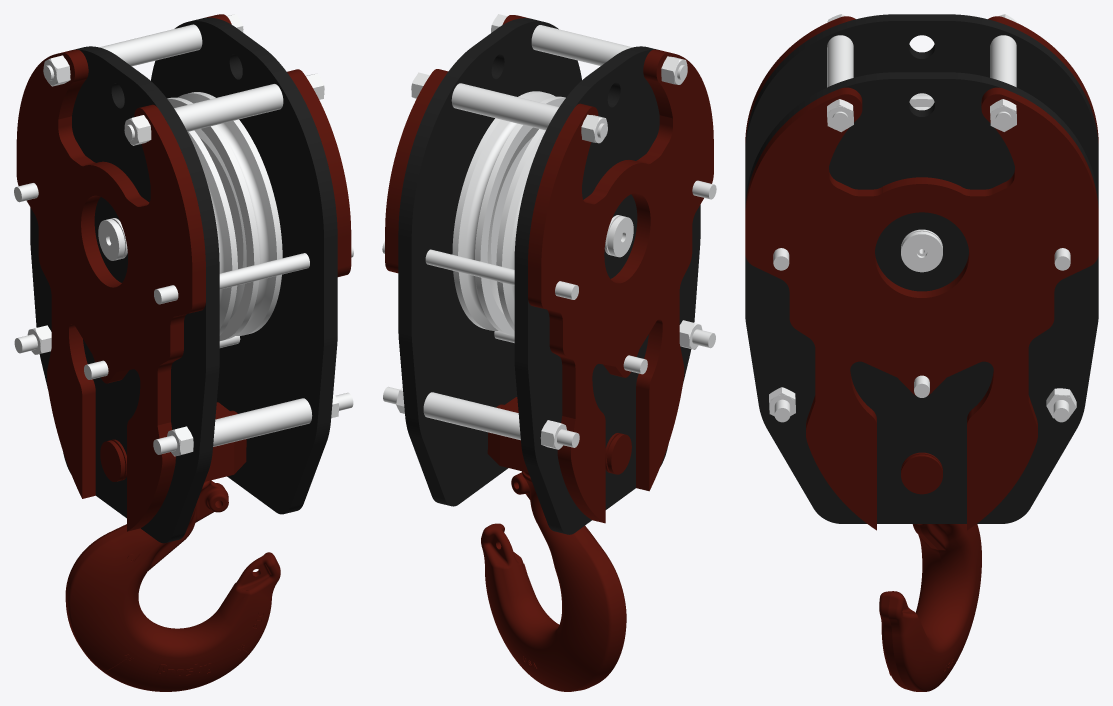
The model's file is GNC-SPT-001.glb.
3 renders of one model, left to right at view 1: azimuth 30°, elevation 25°; view 2: azimuth 150°, elevation 25°; view 3: azimuth 270°, elevation 25°, orthographic. The views are drawn at different scales.
Visible parts, largest first — view 1: PLACA DE CARGA GANCHO 2 POLEAS (×2), CONTRAPESO DE BLOQUE DOBLE OLEA (×2), CROSBY_319AN_N_1028801 GANCHO 22, POLEA DE BLOQUE 2 POLEAS (×2), BARRAB HUECA SEPARADORA BLOQUE 2 POLEAS (×3), SIMULACION ESPARRAGO 2 POLEAS (×3), BLOQUE DE CARGA 2 POLEAS, heavy hex nut_ai (×3), FLECHA DE 2 POLEAS; view 2: PLACA DE CARGA GANCHO 2 POLEAS (×2), CONTRAPESO DE BLOQUE DOBLE OLEA (×2), CROSBY_319AN_N_1028801 GANCHO 22, POLEA DE BLOQUE 2 POLEAS (×2), BARRAB HUECA SEPARADORA BLOQUE 2 POLEAS (×3), SIMULACION ESPARRAGO 2 POLEAS (×3), BLOQUE DE CARGA 2 POLEAS, heavy hex nut_ai (×3), FLECHA DE 2 POLEAS; view 3: CONTRAPESO DE BLOQUE DOBLE OLEA (×2), PLACA DE CARGA GANCHO 2 POLEAS (×2), CROSBY_319AN_N_1028801 GANCHO 22, BARRAB HUECA SEPARADORA BLOQUE 2 POLEAS (×2), FLECHA DE 2 POLEAS, BLOQUE DE CARGA 2 POLEAS, heavy hex nut_ai (×2).
Part boxes in pixels (x1,y1,x2,y2): PLACA DE CARGA GANCHO 2 POLEAS (×2): (30,17,337,543); CONTRAPESO DE BLOQUE DOBLE OLEA (×2): (16,14,351,531); CROSBY_319AN_N_1028801 GANCHO 22: (65,480,280,691); POLEA DE BLOQUE 2 POLEAS (×2): (167,92,282,340); BARRAB HUECA SEPARADORA BLOQUE 2 POLEAS (×3): (99,24,312,446); SIMULACION ESPARRAGO 2 POLEAS (×3): (84,244,353,454); BLOQUE DE CARGA 2 POLEAS: (100,402,246,481); heavy hex nut_ai (×3): (43,55,193,456); FLECHA DE 2 POLEAS: (98,218,127,260); PLACA DE CARGA GANCHO 2 POLEAS (×2): (398,18,700,534); CONTRAPESO DE BLOQUE DOBLE OLEA (×2): (385,15,713,523); CROSBY_319AN_N_1028801 GANCHO 22: (481,471,626,691); POLEA DE BLOQUE 2 POLEAS (×2): (452,91,565,336); BARRAB HUECA SEPARADORA BLOQUE 2 POLEAS (×3): (423,25,632,440); SIMULACION ESPARRAGO 2 POLEAS (×3): (382,241,647,447); BLOQUE DE CARGA 2 POLEAS: (487,397,631,474); heavy hex nut_ai (×3): (540,56,687,449); FLECHA DE 2 POLEAS: (604,215,633,257); CONTRAPESO DE BLOQUE DOBLE OLEA (×2): (745,16,1098,530); PLACA DE CARGA GANCHO 2 POLEAS (×2): (745,14,1098,523); CROSBY_319AN_N_1028801 GANCHO 22: (879,524,981,691); BARRAB HUECA SEPARADORA BLOQUE 2 POLEAS (×2): (827,35,1016,87); FLECHA DE 2 POLEAS: (901,229,942,272); BLOQUE DE CARGA 2 POLEAS: (901,452,942,494); heavy hex nut_ai (×2): (827,99,1016,132).
Size of the model in its own units: 0.2707 by 0.8545 by 0.4272.
